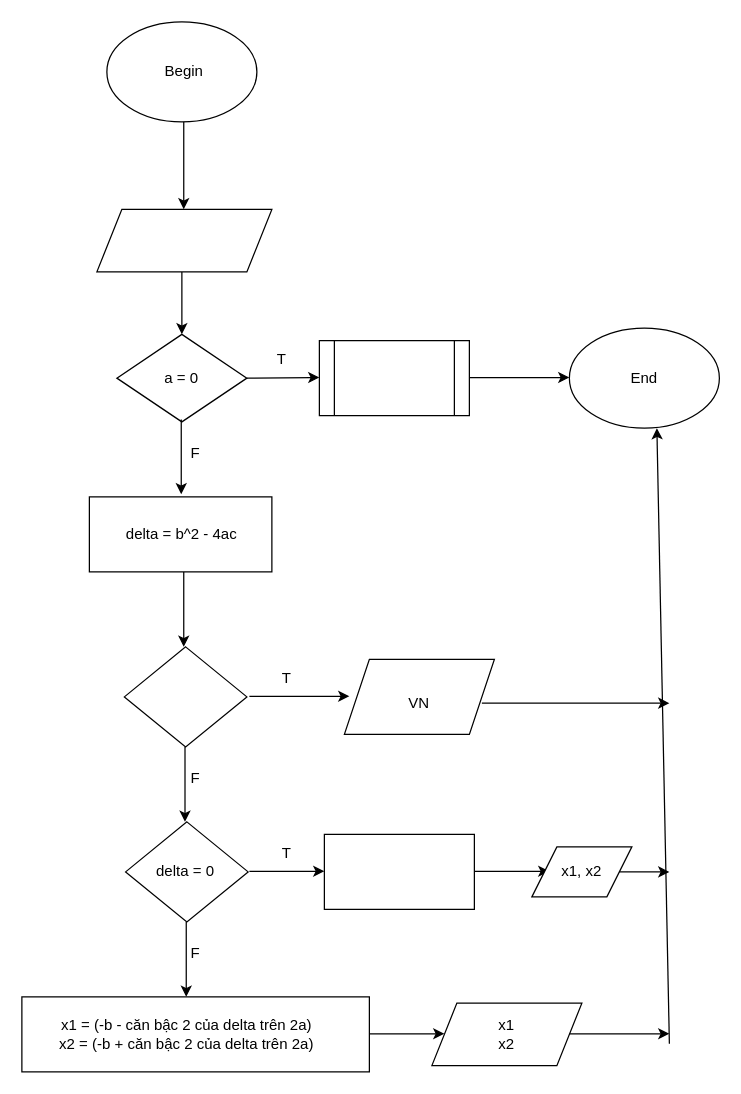
This 741x1094 diagram has some shape labels left out. Here are the shapes that lost their labels. From the top down, the centre of each, then its label:
At (184,240): "a, b, c".
At (393,377): "ptb1".
At (185,696): "delta < 0".
At (398,871): "x1 = x2 = -b/2a".
